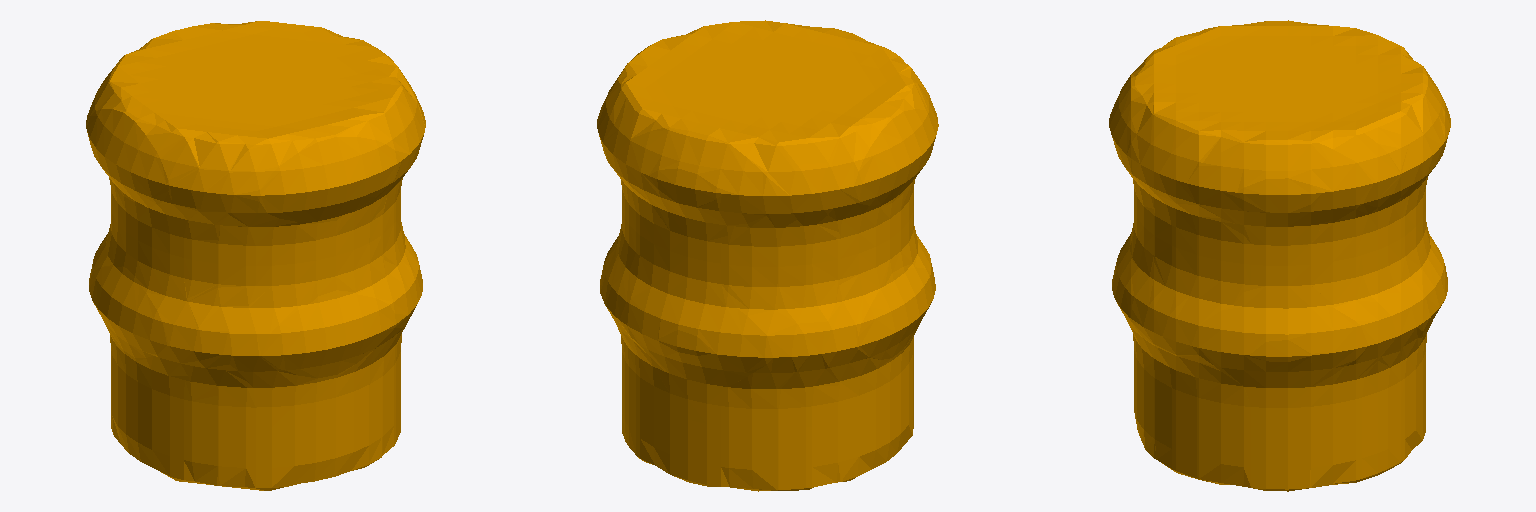
robot.urdf — cylinder_../../meshes/cylinders/cylinder_45.stl:
<?xml version="1.0" encoding="utf-8"?>  <robot name="cylinder_../../meshes/cylinders/cylinder_45.stl">   <link name="cylinder_../../meshes/cylinders/cylinder_45.stl">     <visual>       <geometry>         <mesh filename="../meshes/cylinders/cylinder_45.stl" scale="1 1 1"/>       </geometry>     </visual>     <collision>       <geometry>         <mesh filename="../meshes/cylinders/cylinder_45.stl" scale="1 1 1"/>       </geometry>     </collision>     <inertial>        <origin         xyz="0 0 0"         rpy="0 0 0" />       <mass value="0.31763424762385883"/>       <origin rpy="0 0 0" xyz="0 0 0"/>       <inertia ixx="0.0002912302667026265" ixy="-1.5552740224495263e-09" ixz="-1.49576895157241e-08" iyy="0.0002912360650618755" iyz="-1.765787289586348e-08" izz="0.00018691435378543725"/>     </inertial>   </link>  </robot>

--- Render facts (derived) ---
3 views of the same robot in one strip: view 1: azimuth 30°, elevation 25°; view 2: azimuth 150°, elevation 25°; view 3: azimuth 270°, elevation 25° (orthographic).
Robot: cylinder_../../meshes/cylinders/cylinder_45.stl — 1 links, 0 joints (none); root link cylinder_../../meshes/cylinders/cylinder_45.stl; default pose: every joint at zero.
Visible links, largest first — view 1: cylinder_../../meshes/cylinders/cylinder_45.stl; view 2: cylinder_../../meshes/cylinders/cylinder_45.stl; view 3: cylinder_../../meshes/cylinders/cylinder_45.stl.
Link boxes in pixels (x1=…): cylinder_../../meshes/cylinders/cylinder_45.stl: x1=86, y1=21, x2=425, y2=490; cylinder_../../meshes/cylinders/cylinder_45.stl: x1=597, y1=20, x2=938, y2=491; cylinder_../../meshes/cylinders/cylinder_45.stl: x1=1109, y1=20, x2=1450, y2=491.
Bounding box of the posed robot: 0.0762 × 0.0762 × 0.0873 m (x, y, z).
Meshes: 1 distinct files referenced, 1 mesh visuals loaded (1 binary STL).